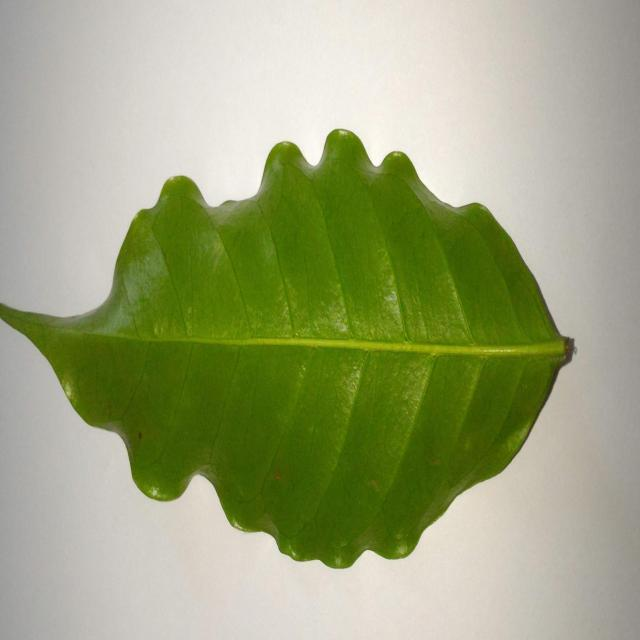nodisease: (0, 129, 575, 568)
